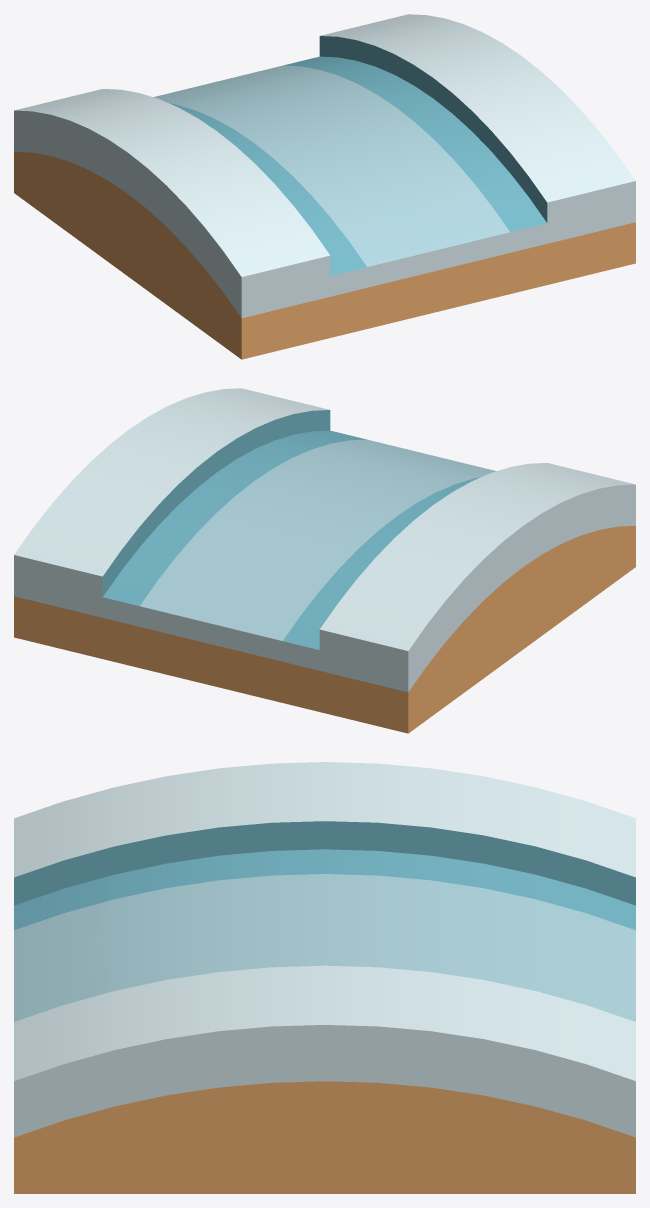
Rendered from snow_tile_bump.dae.
The picture shows the model from 3 angles, top to bottom: view 1: azimuth 30°, elevation 25°; view 2: azimuth 150°, elevation 25°; view 3: azimuth 270°, elevation 25°; orthographic projection. The views are drawn at different scales.
Parts seen in each view (by area): view 1: snow_tile_bump; view 2: snow_tile_bump; view 3: snow_tile_bump.
Boxes of the visible parts, bbox=[...] form: snow_tile_bump: bbox=[14, 14, 635, 359]; snow_tile_bump: bbox=[14, 388, 635, 733]; snow_tile_bump: bbox=[14, 762, 635, 1193].
Size of the model in its own units: 1 by 0.3 by 1.
